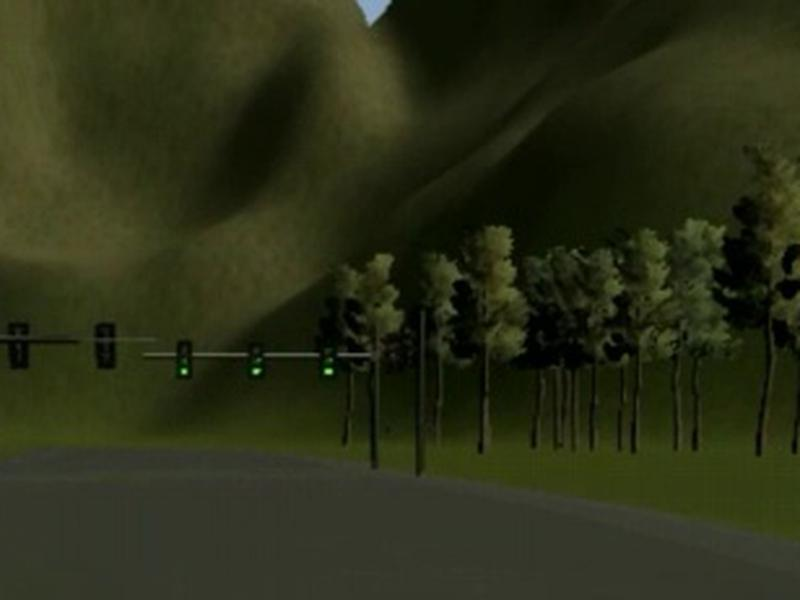Green: (174, 338, 193, 380), (247, 339, 266, 379), (320, 342, 336, 379)
